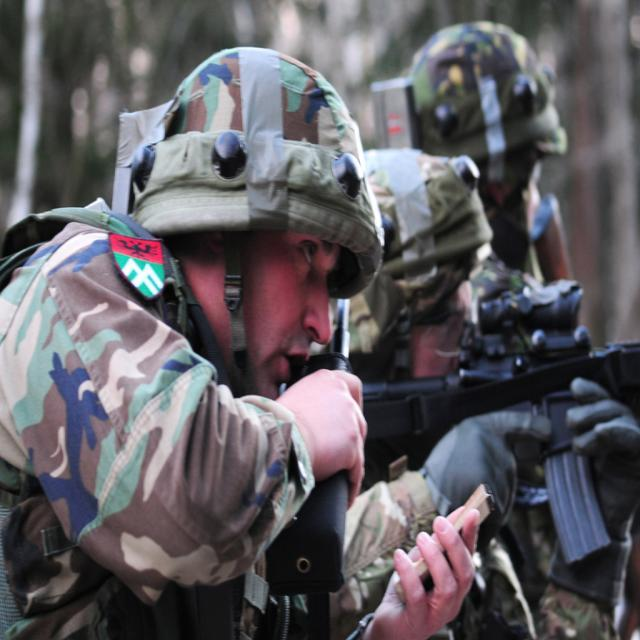weapon: (364, 293, 640, 586)
